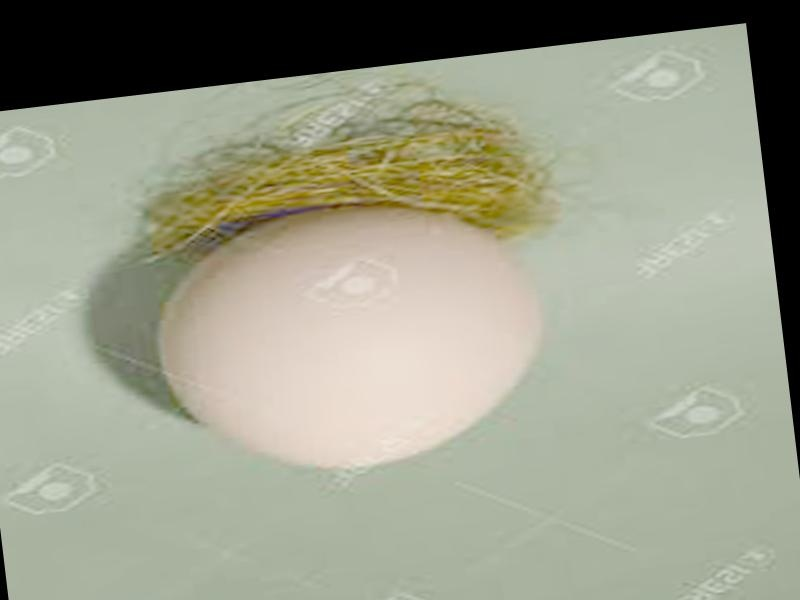Eggs: (152, 200, 554, 490)
